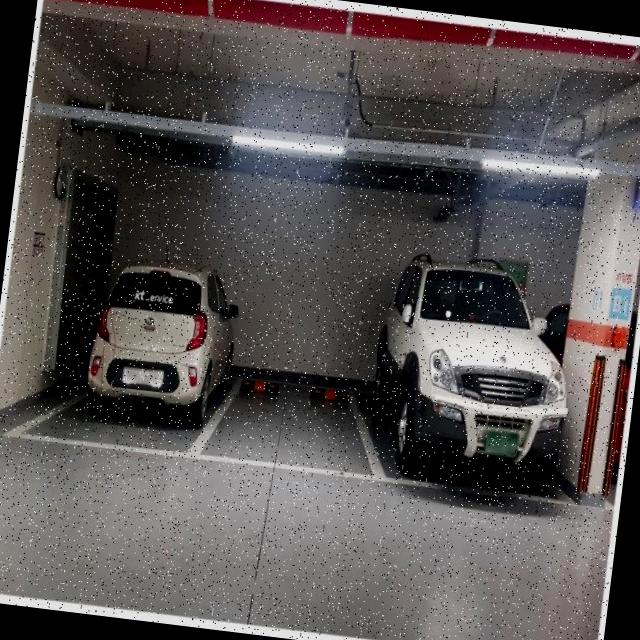car: (365, 236, 614, 504), (66, 235, 230, 470)
free: (204, 363, 380, 480)
